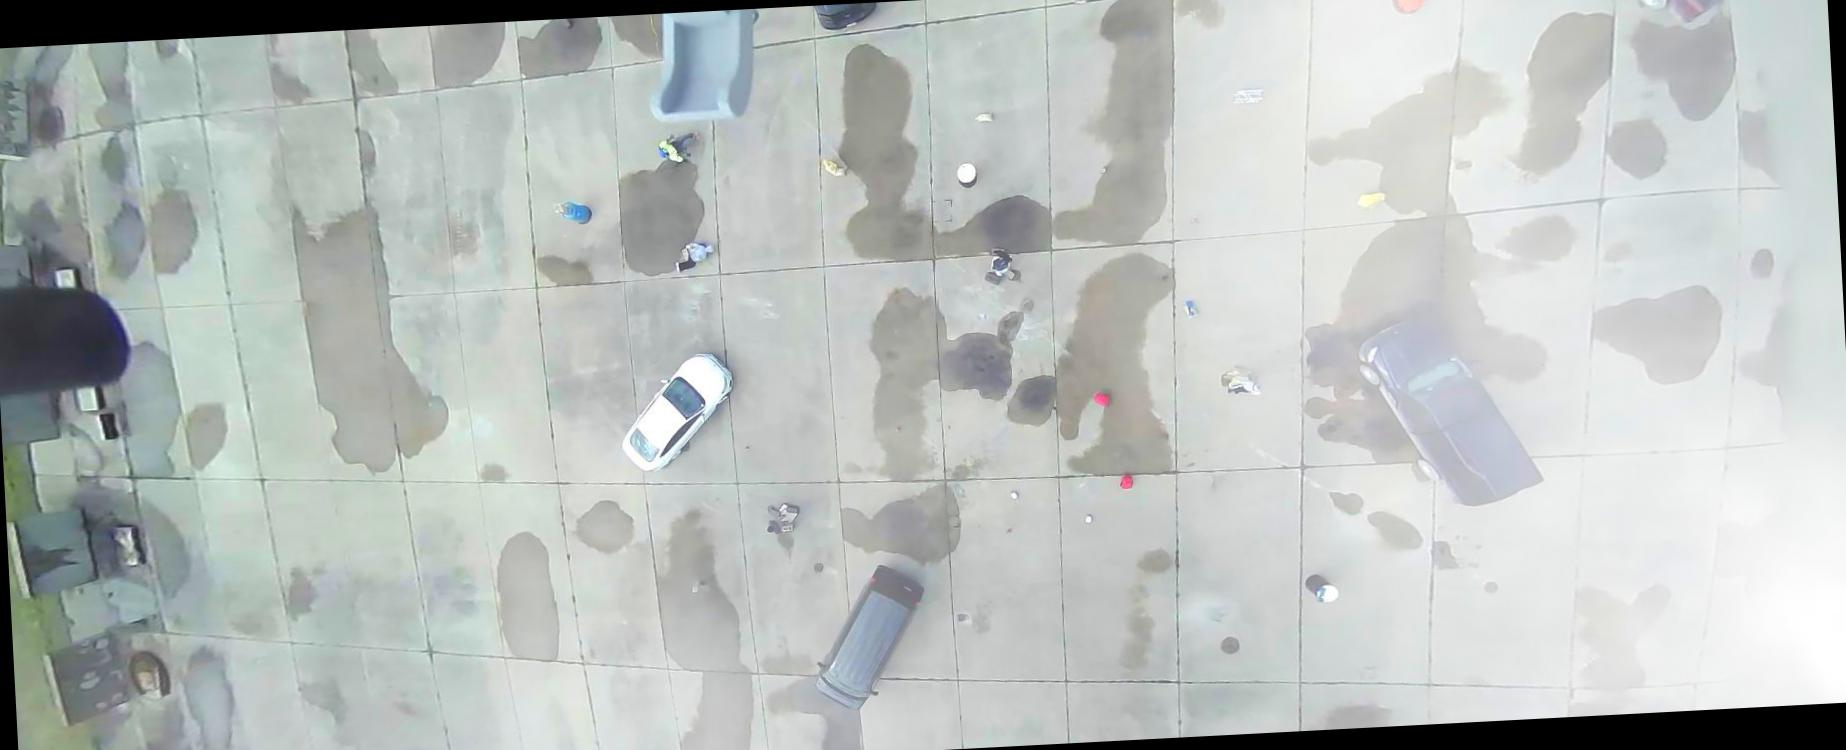vehicle: (1355, 308, 1547, 512), (809, 560, 931, 714), (617, 350, 738, 474), (1623, 0, 1734, 28), (814, 2, 878, 31)
